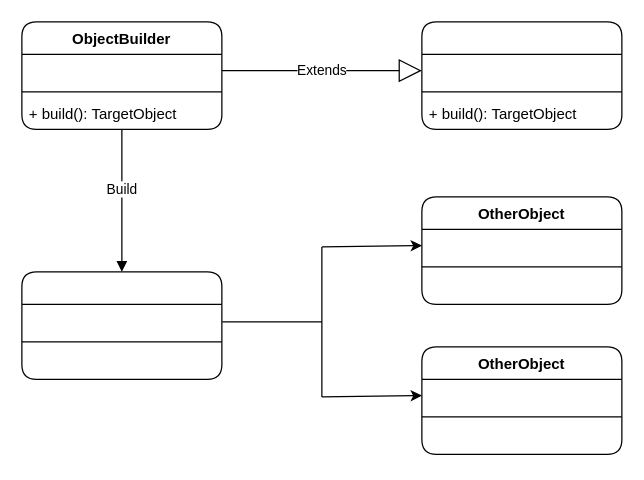
The diagram is 644 pixels wide and 480 high, and some of its shapes have lost their labels. The box of each missing label's shape, as (x1, y1, x2, y2) in pixels:
IBuilder: (421, 21, 622, 129)
TargetObject: (21, 271, 222, 379)
